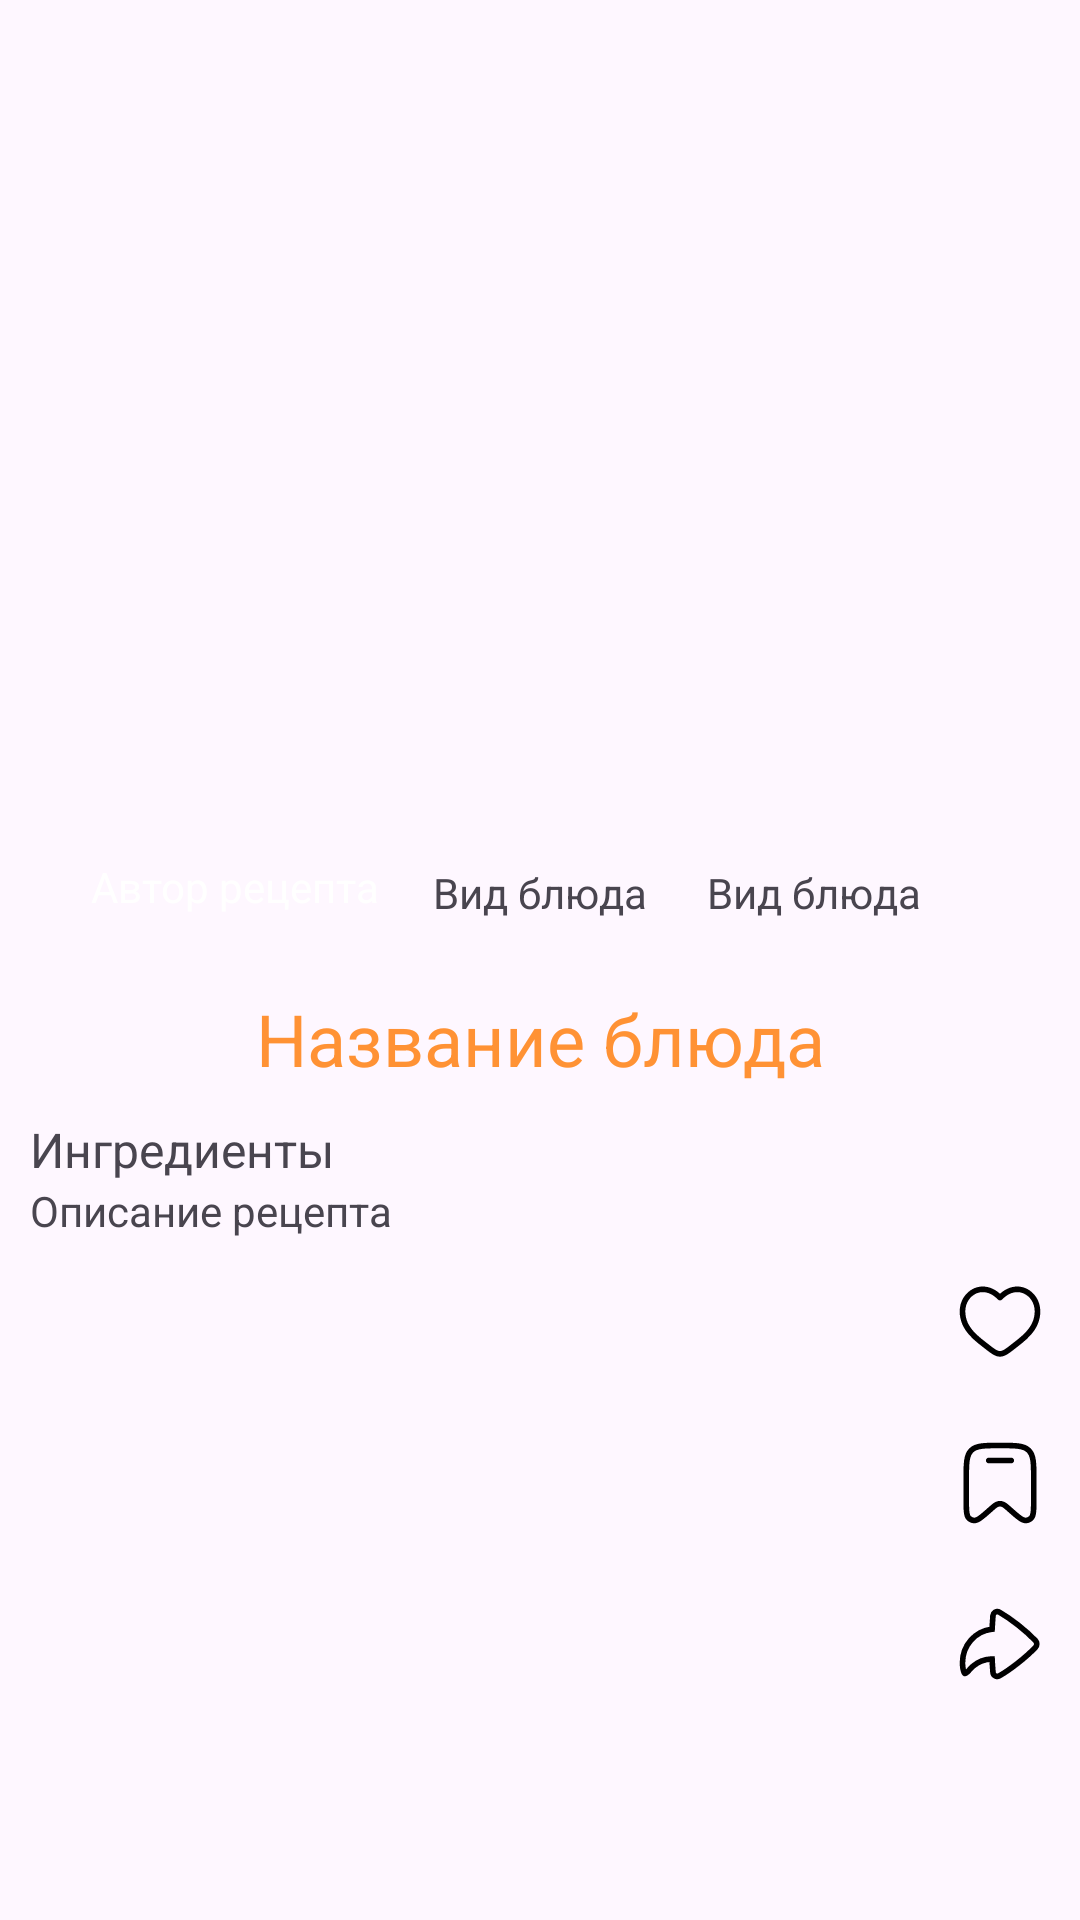

Icon bounding boxes for this 1080*1920 phone screenshot, format (x1, y1, x2, y2):
bookmark recipe: (963, 1442, 1037, 1524)
heart resipe: (959, 1286, 1041, 1357)
share recipe: (959, 1608, 1040, 1680)
